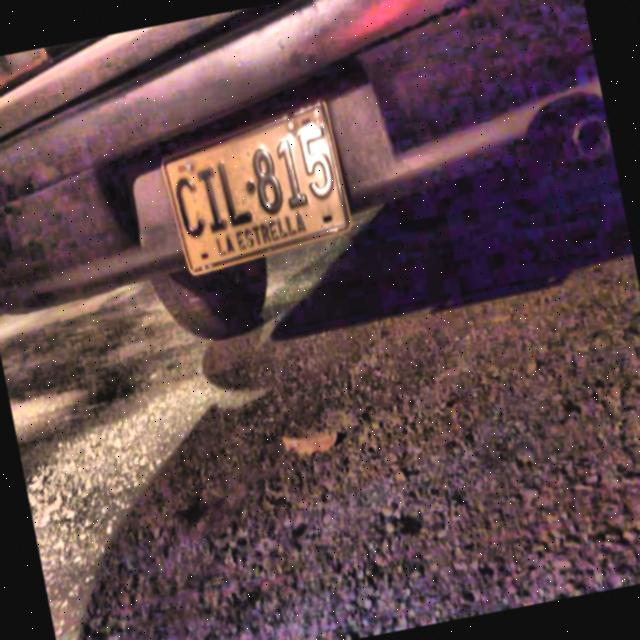1: (272, 134, 313, 212)
5: (295, 121, 338, 205)
8: (248, 144, 289, 219)
C: (171, 171, 211, 243)
I: (194, 163, 231, 237)
L: (214, 156, 259, 230)
